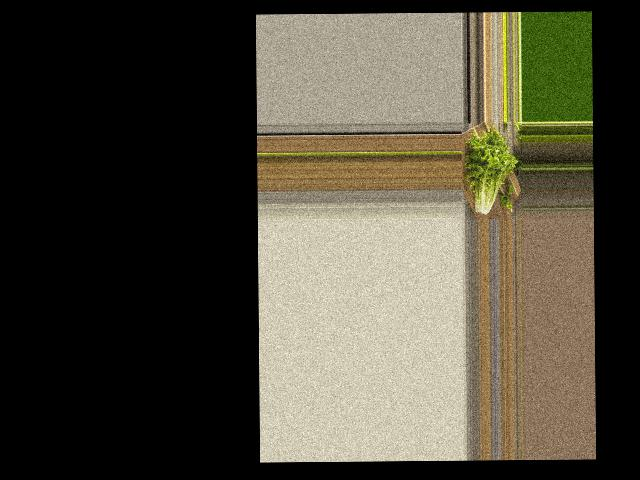lettuce: (464, 129, 516, 219)
